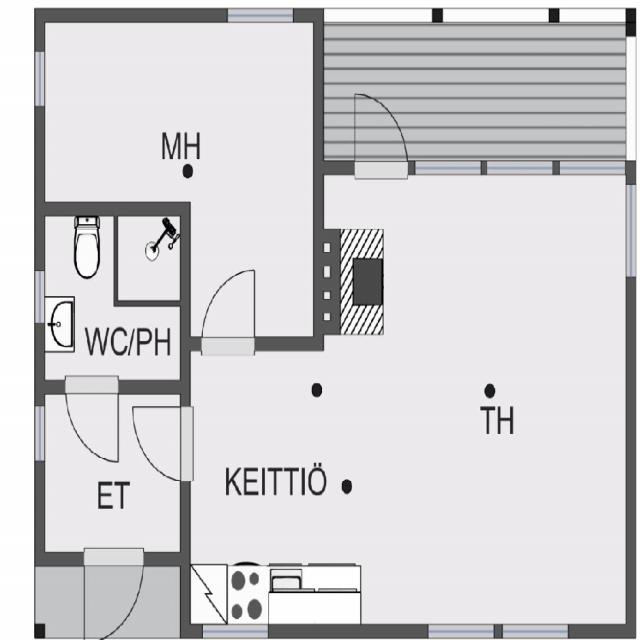door: (64, 380, 119, 470), (84, 552, 138, 640), (129, 406, 190, 479), (355, 88, 406, 174)
